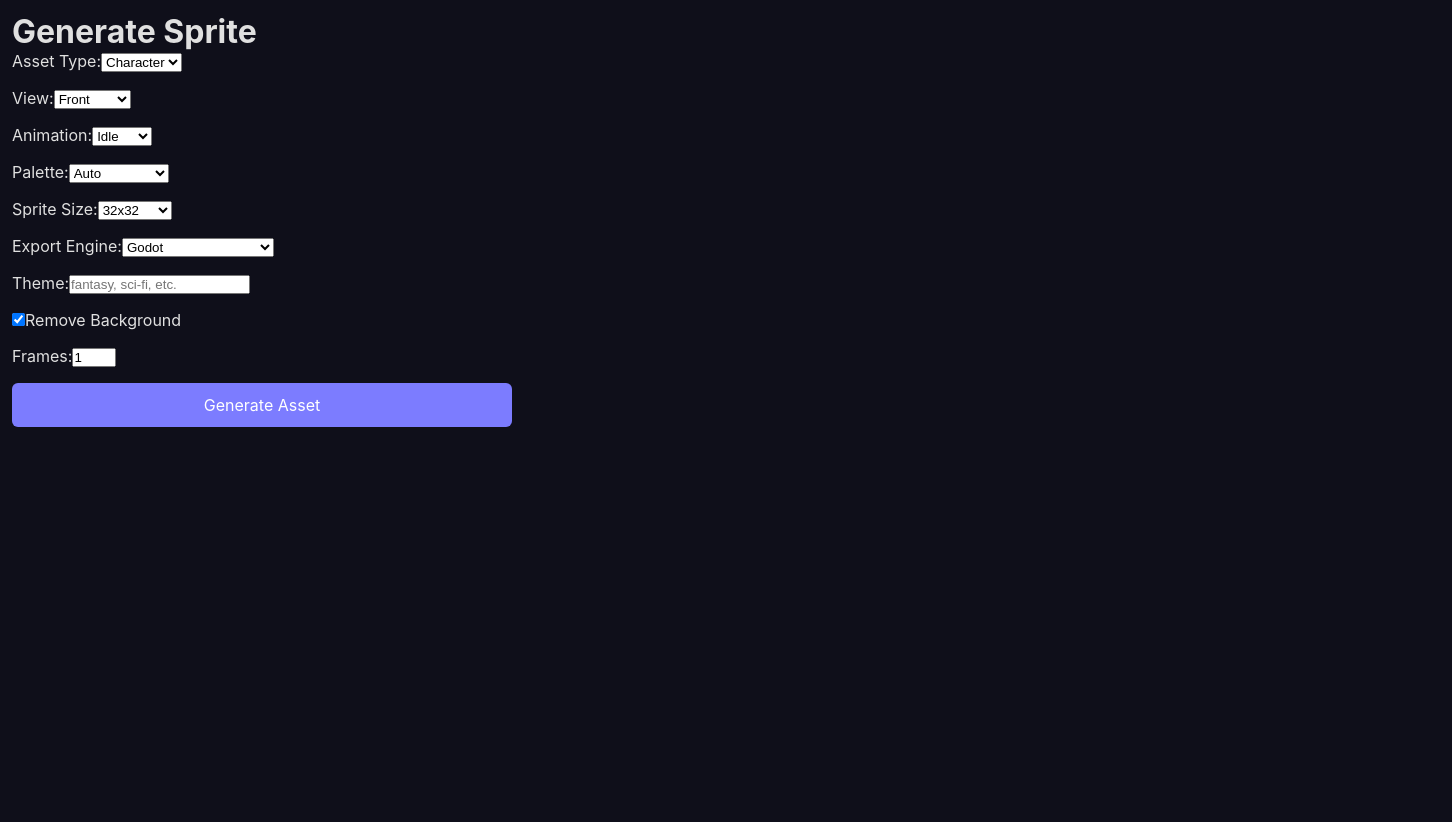
GenerateForm › submits the form and shows the generated result
Click the button "Generate Asset": (262, 405) [12,383,512,427]
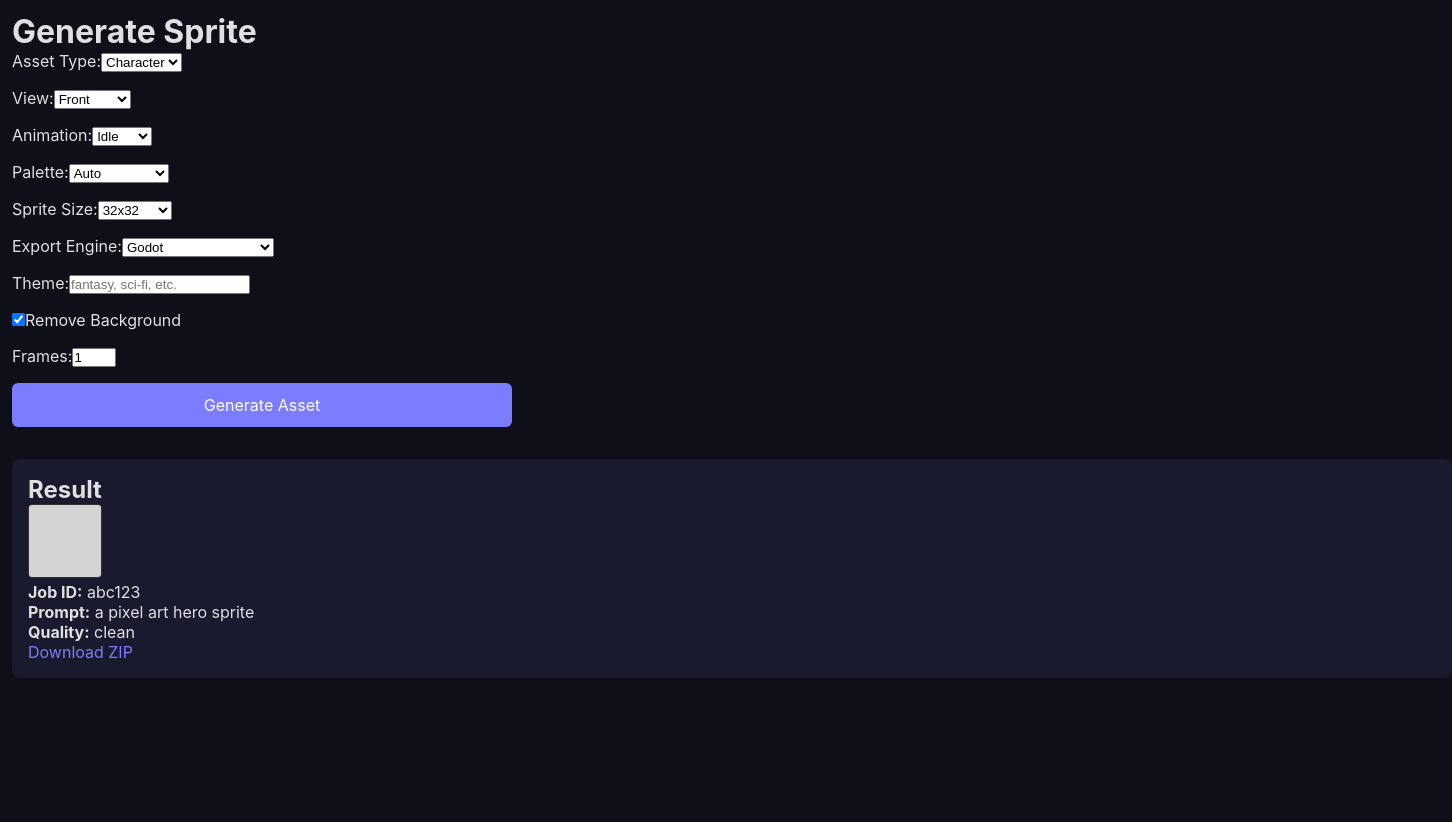
Expected: the text "a pixel art hero sprite" is shown, [95,602,254,622]
Expected: the text "clean" is shown, [94,622,135,642]
